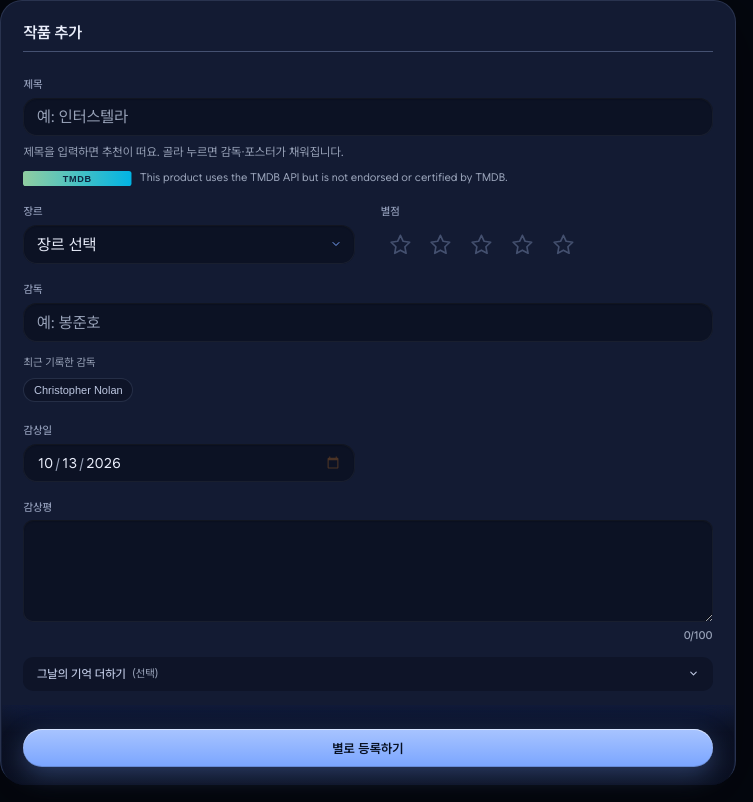
Test: AddWorkForm › R2.1 R2.7 renders every field and supports existing or custom directors
This screenshot has width=753, height=802.
Expected: the dropdown labelled "제목" is shown, [23,98,713,136]
Expected: the dropdown labelled "장르" is shown, [23,225,355,264]
Step 1. Click the button "Christopher Nolan" → (78, 390), box [23,378,133,402]
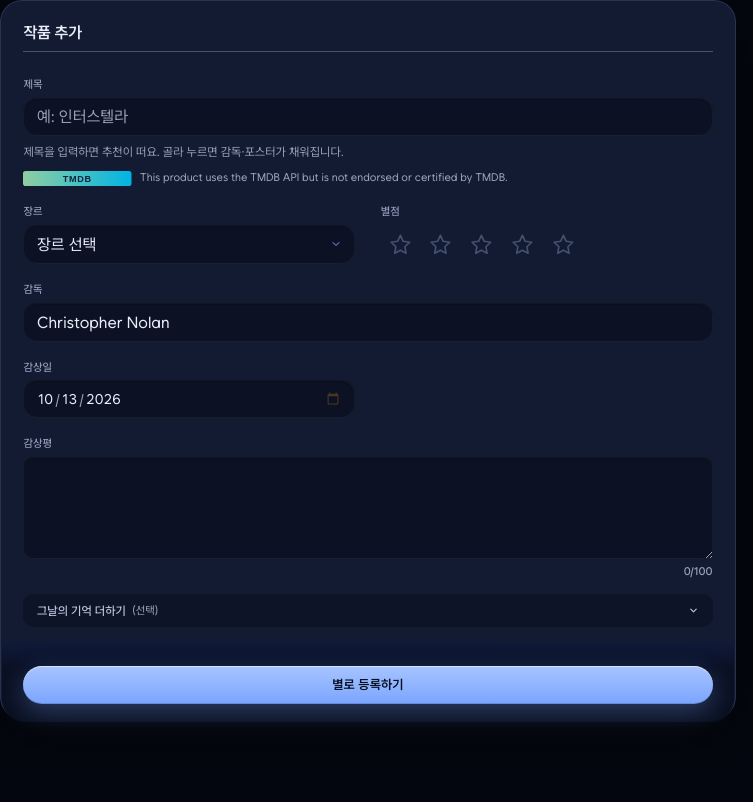
Result: the field labelled "감독" holds "Christopher Nolan" at [23,303,713,342]
Result: the text "최근 기록한 감독" is gone
